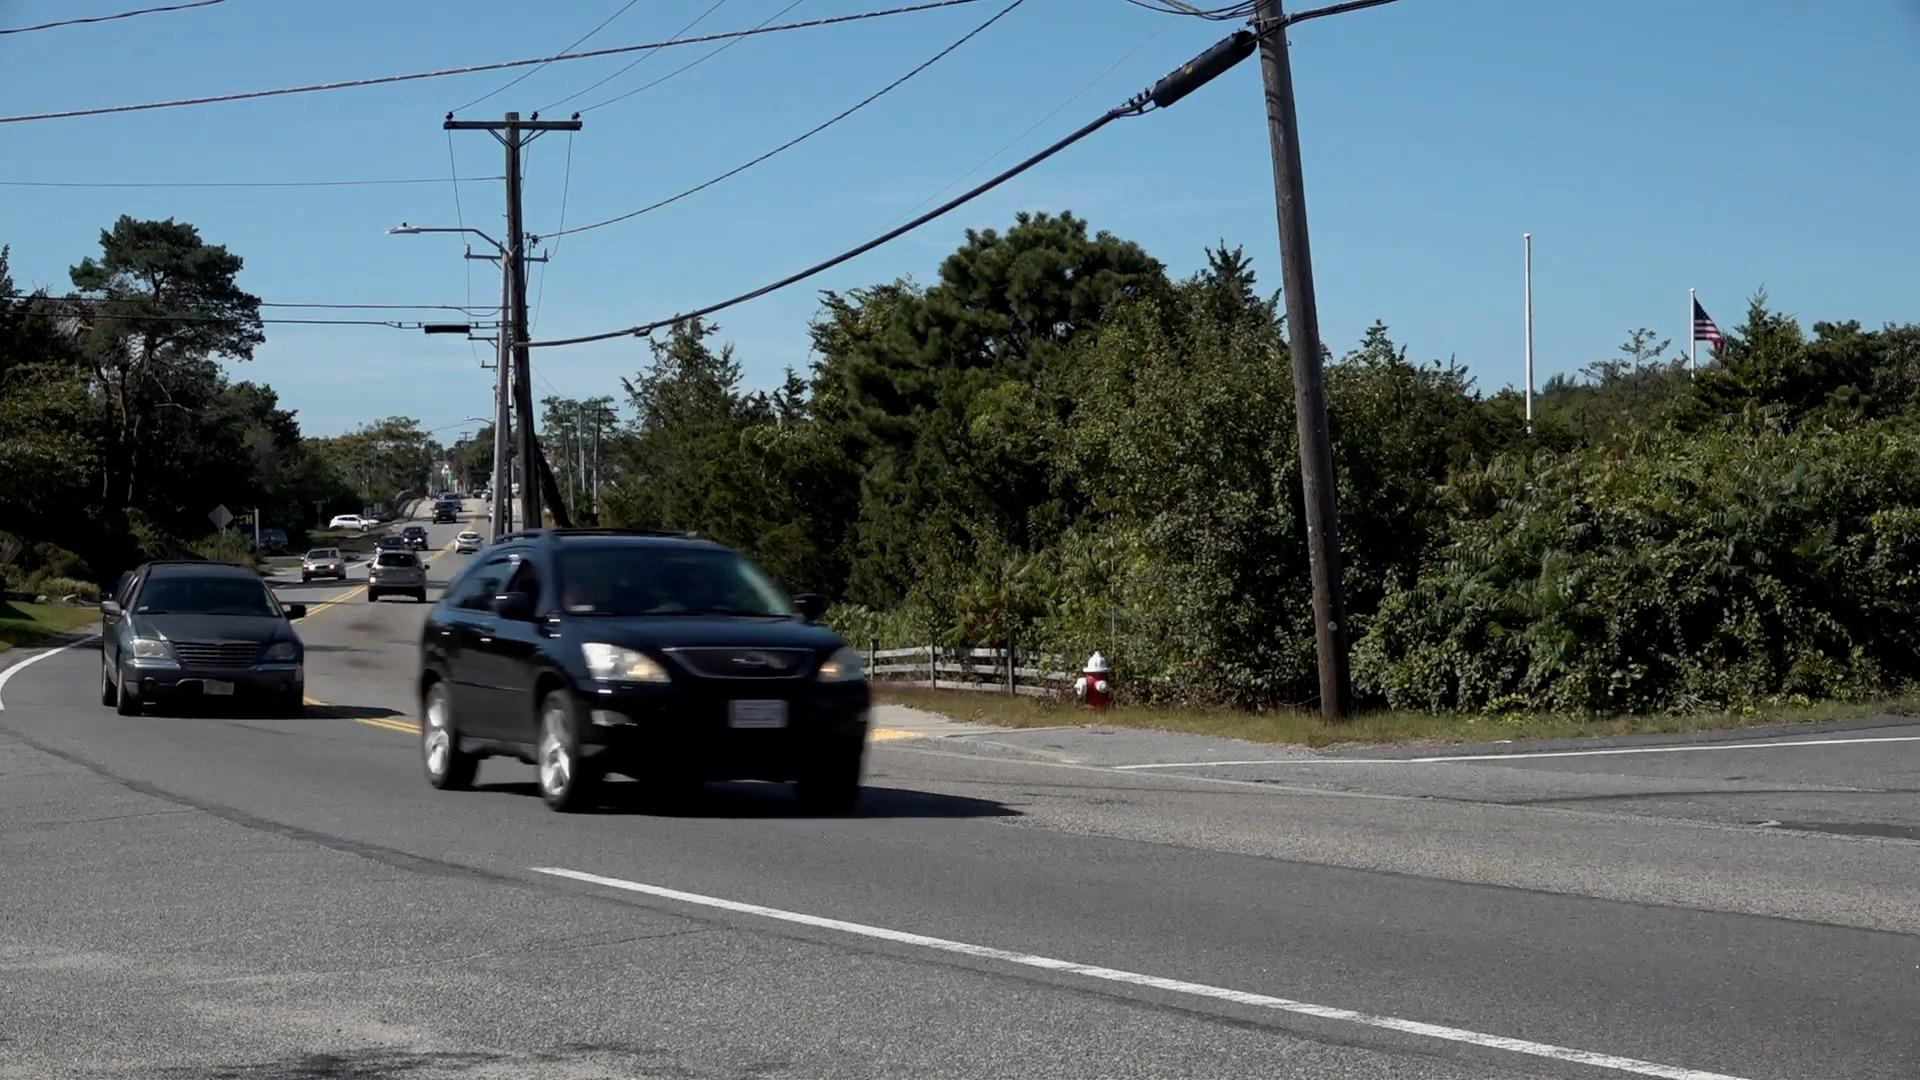sedans: (98, 551, 314, 721)
suv: (407, 531, 878, 815)
